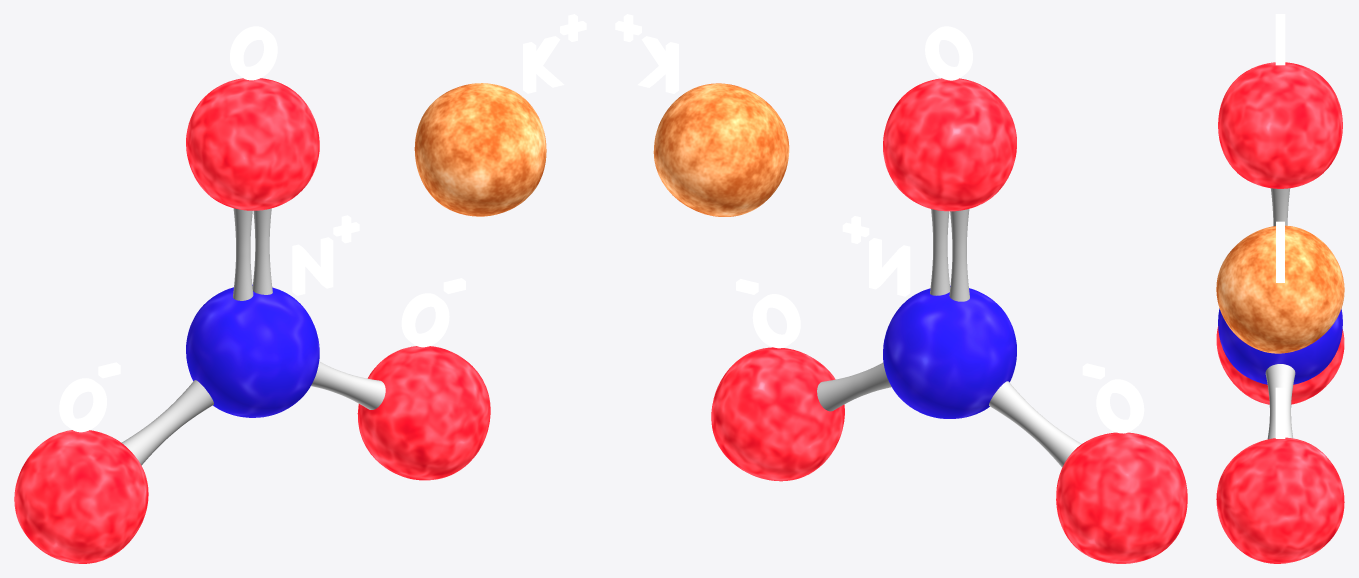
The model's file is KNO3.glb.
3 renders of one model, left to right at view 1: azimuth 30°, elevation 25°; view 2: azimuth 150°, elevation 25°; view 3: azimuth 270°, elevation 25°, orthographic. The views are drawn at different scales.
Parts seen in each view (by area): view 1: Text.009; view 2: Text.009; view 3: Text.009.
Part boxes in pixels (x1,y1,x2,y2): Text.009: (14, 14, 586, 563); Text.009: (615, 14, 1187, 563); Text.009: (1216, 14, 1344, 563).
Bounding box in the file's own units: 5.98 × 4.95 × 1.24.
5 materials, 3 textured.
